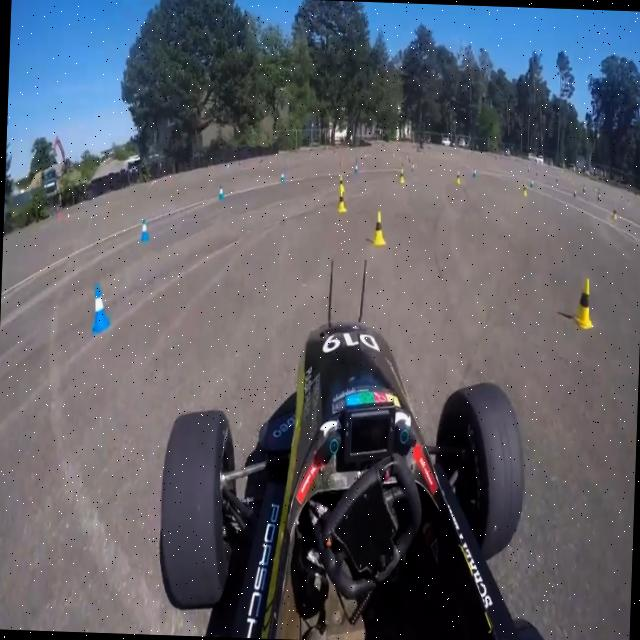blue_cone: (86, 276, 110, 332), (134, 218, 150, 242), (215, 184, 224, 202)
yellow_cone: (570, 278, 594, 333), (370, 206, 390, 247), (334, 172, 347, 214)
